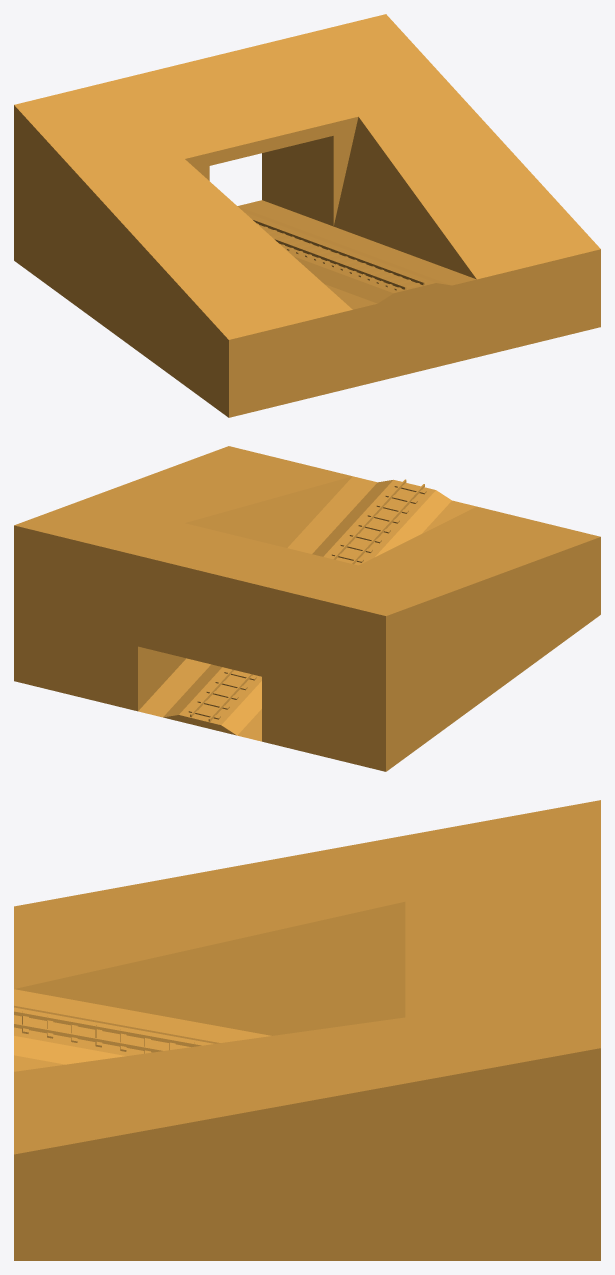
Rendered from tile-rail-hill-tunnel-entrance.glb.
The picture shows the model from 3 angles, top to bottom: view 1: azimuth 30°, elevation 25°; view 2: azimuth 150°, elevation 25°; view 3: azimuth 270°, elevation 25°; orthographic projection. The views are drawn at different scales.
Parts seen in each view (by area): view 1: tile-rail-hill-tunnel-entrance; view 2: tile-rail-hill-tunnel-entrance; view 3: tile-rail-hill-tunnel-entrance.
Boxes of the visible parts, x1=… form: tile-rail-hill-tunnel-entrance: x1=14, y1=14, x2=600, y2=417; tile-rail-hill-tunnel-entrance: x1=14, y1=446, x2=600, y2=771; tile-rail-hill-tunnel-entrance: x1=14, y1=800, x2=600, y2=1260.
Bounding box in the file's own units: 30 × 12 × 30.
